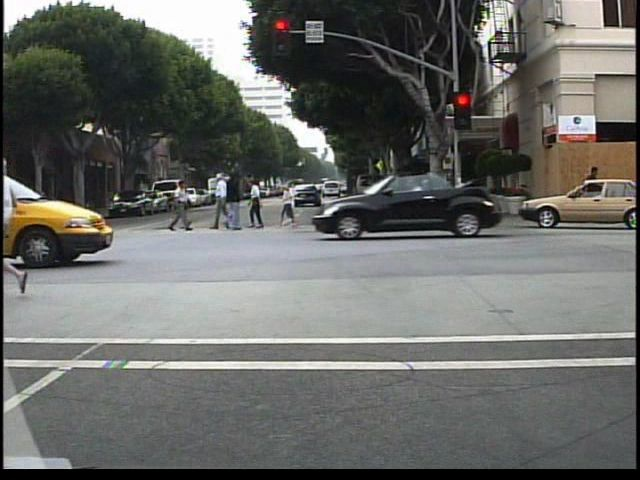person: (16, 192, 48, 240), (221, 170, 245, 234), (213, 170, 238, 231), (166, 175, 192, 233), (579, 160, 602, 220), (247, 177, 272, 231), (22, 182, 45, 237), (185, 180, 193, 232)
